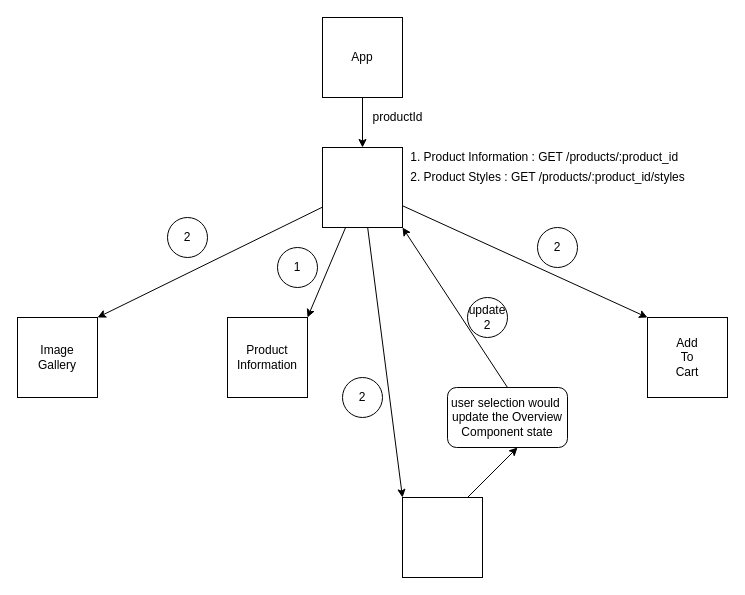
This 745x595 diagram has some shape labels left out. Each missing label, with the box of its shape:
OverView Component: (322, 146, 402, 228)
Style Selector: (402, 496, 482, 578)
